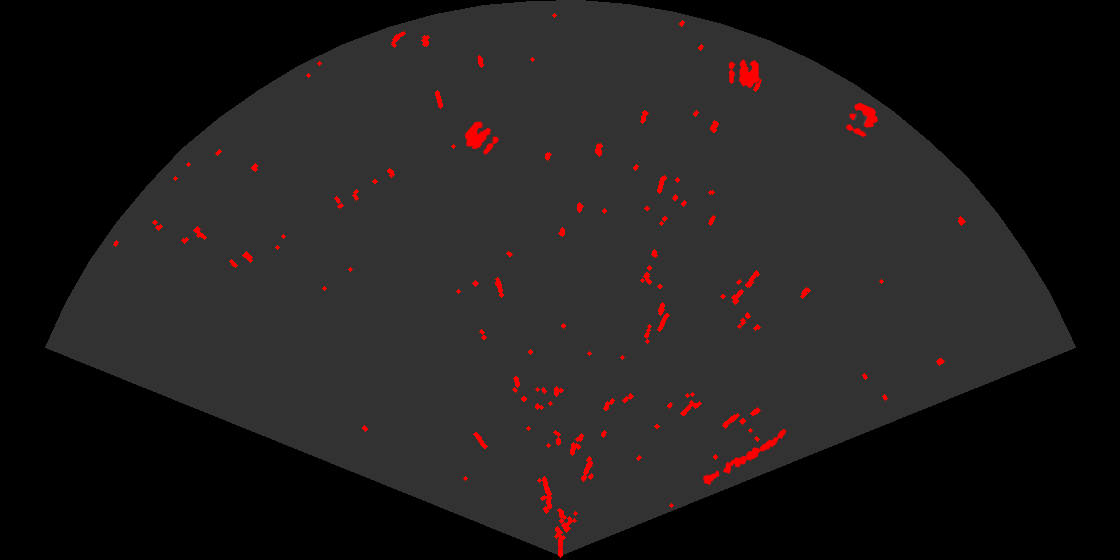ball: (844, 101, 880, 139), (463, 120, 500, 156), (727, 58, 760, 89)
chain: (701, 427, 788, 487)
